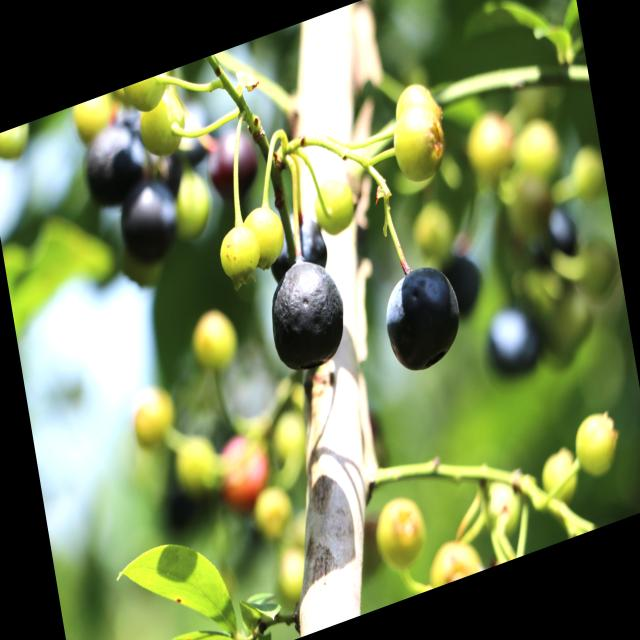blueberry: (372, 254, 470, 389), (262, 248, 354, 380), (76, 112, 151, 212), (113, 174, 183, 268), (197, 116, 264, 206), (259, 204, 330, 286), (481, 295, 544, 385)
blueberry-unripe: (388, 96, 452, 190), (371, 490, 428, 573), (569, 405, 623, 485), (133, 86, 189, 160), (215, 223, 265, 292), (130, 382, 178, 451), (192, 305, 238, 375), (245, 202, 288, 270), (538, 442, 580, 508)
